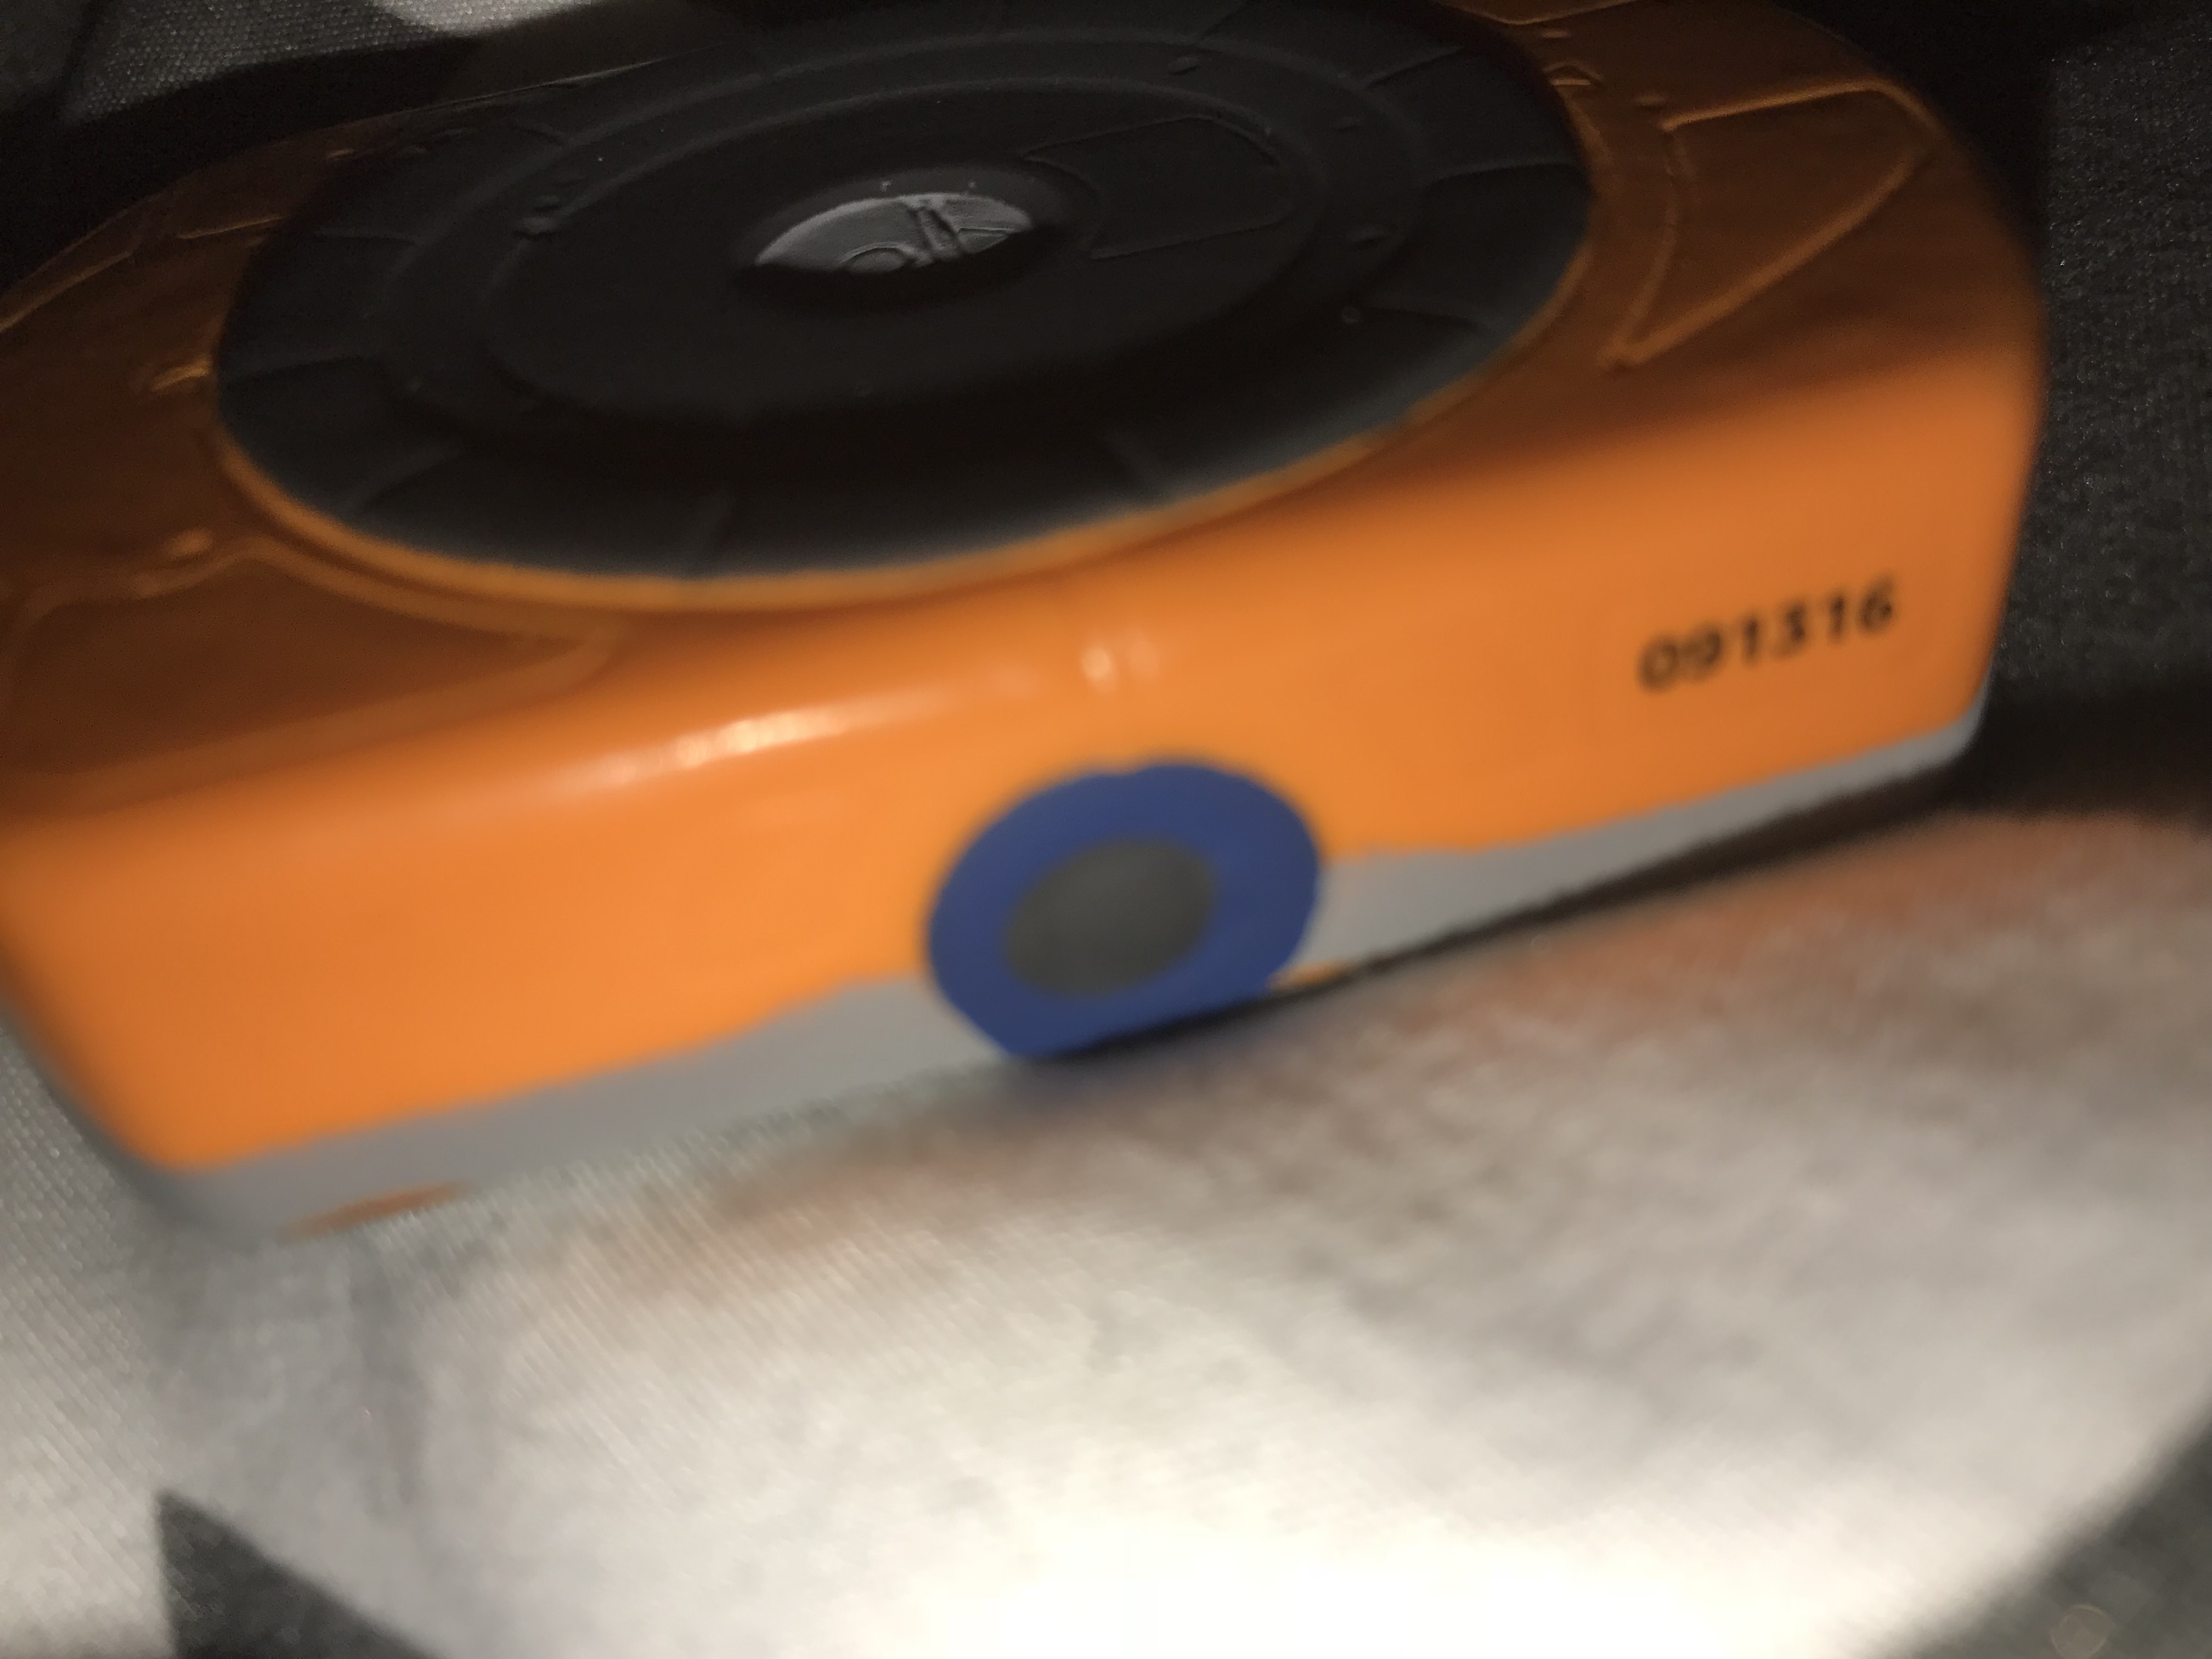amazon_bot: (0, 0, 2067, 1305)
